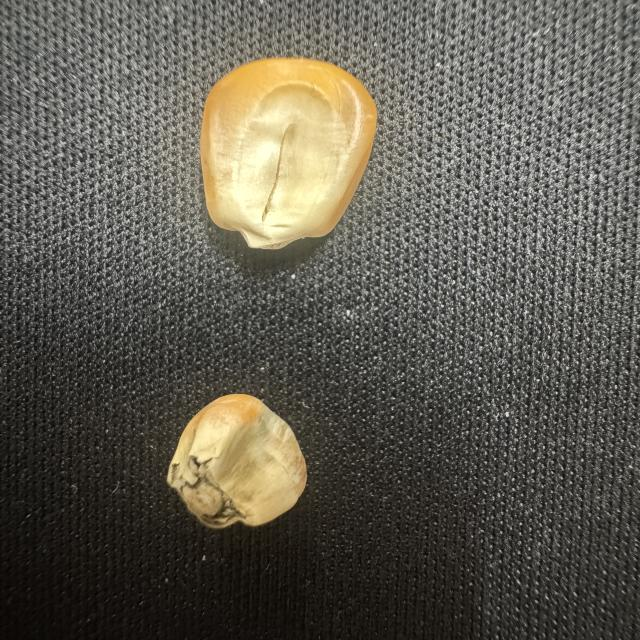Bad-Seed: (157, 388, 314, 536)
Good-Seed: (192, 50, 381, 257)
